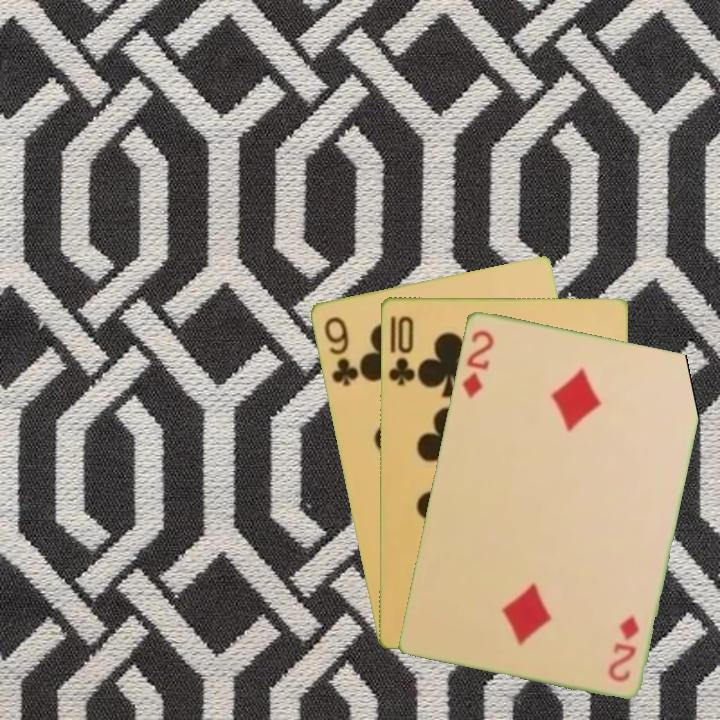10c: (385, 312, 418, 388)
2d: (458, 326, 496, 400), (605, 611, 642, 684)
9c: (320, 313, 360, 389)
